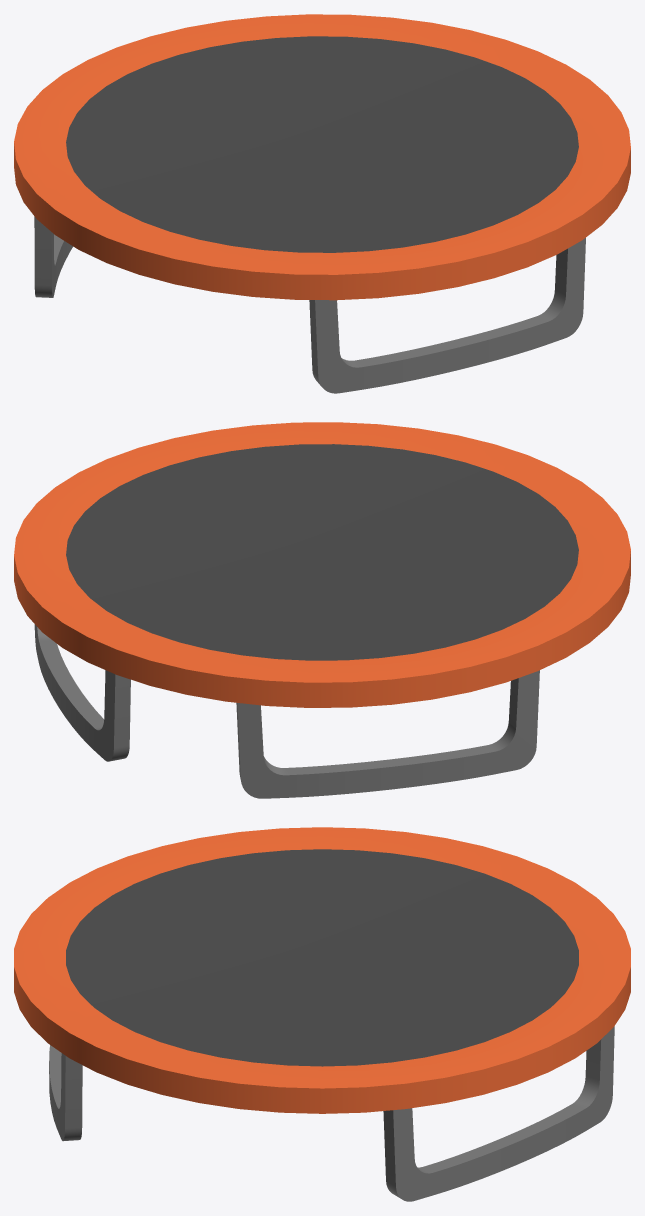
File: Trampline Circle.fbx
3 renders of one model, top to bottom at view 1: azimuth 30°, elevation 25°; view 2: azimuth 150°, elevation 25°; view 3: azimuth 270°, elevation 25°, orthographic.
Visible parts, largest first — view 1: Trampline Circle; view 2: Trampline Circle; view 3: Trampline Circle.
Boxes of the visible parts, x1,y1,x2,y2 form: Trampline Circle: (14,14,630,393); Trampline Circle: (14,422,630,798); Trampline Circle: (14,827,630,1201).
Bounding box in the file's own units: 170 × 38.15 × 170.
